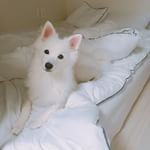puppy: (26, 17, 85, 88)
